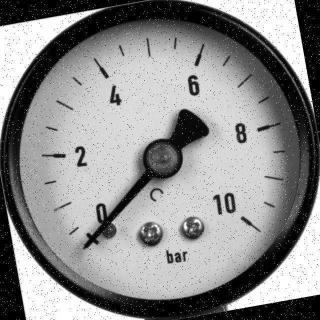gauge: (0, 0, 320, 320), (212, 184, 274, 251), (71, 199, 127, 261), (142, 137, 184, 180), (78, 236, 96, 254)
